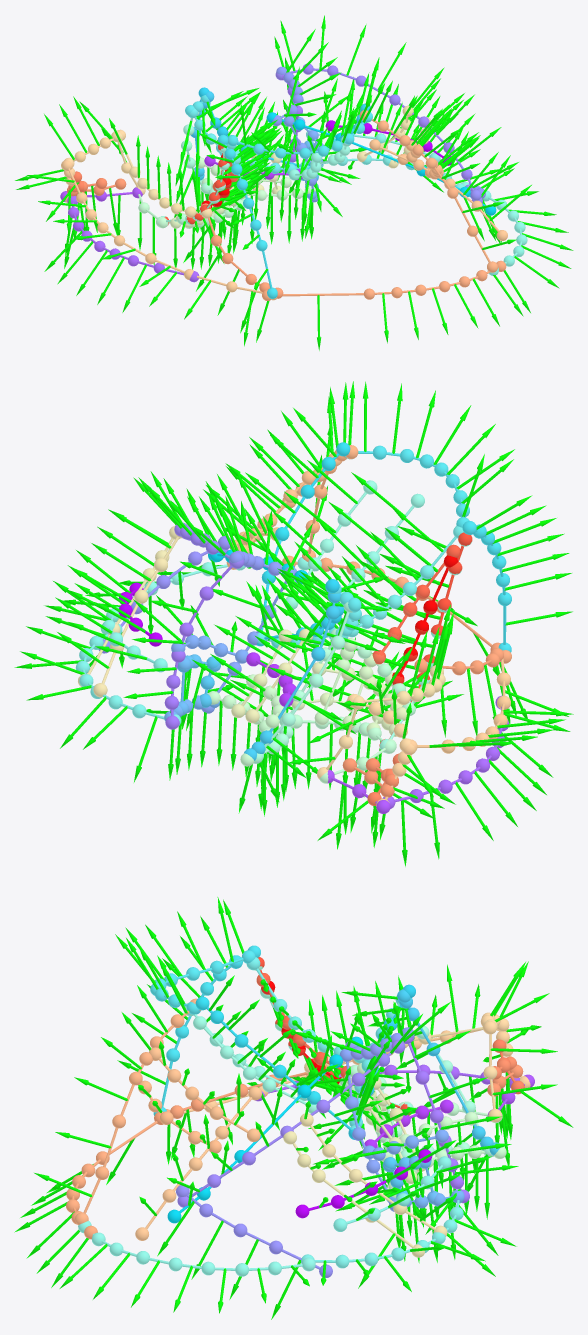
The model's file is author1_building.gltf.
The picture shows the model from 3 angles, top to bottom: view 1: azimuth 30°, elevation 25°; view 2: azimuth 150°, elevation 25°; view 3: azimuth 270°, elevation 25°; orthographic projection. The views are drawn at different scales.
Size of the model in its own units: 0.8803 by 0.4643 by 0.8098.
